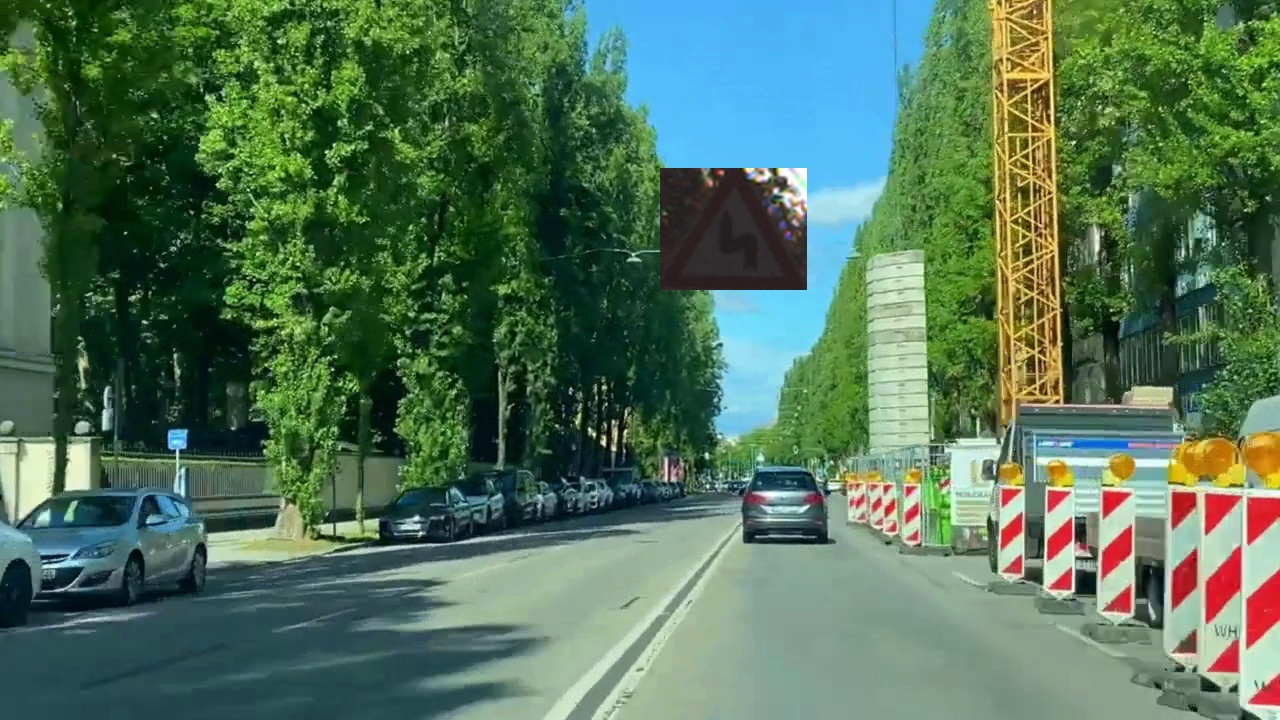Double curve: (660, 168, 807, 290)
